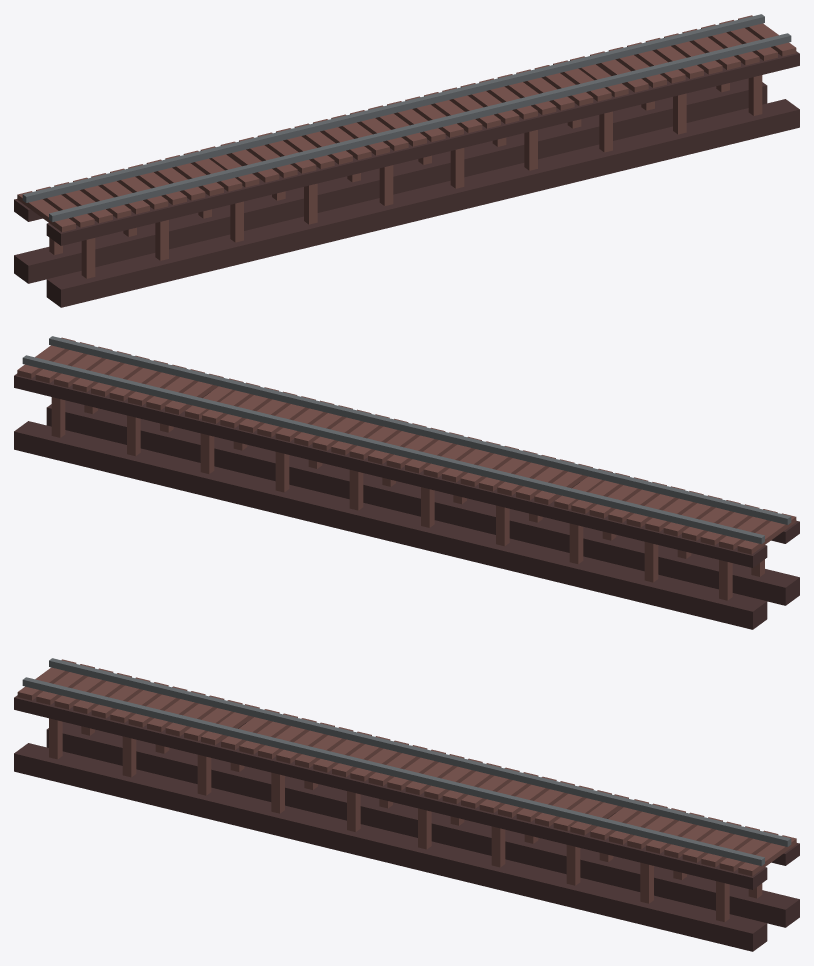
The model's file is DarkRoseWoodMechLarge0_96GaugeStraight1.fbx.
The picture shows the model from 3 angles, top to bottom: view 1: azimuth 30°, elevation 25°; view 2: azimuth 150°, elevation 25°; view 3: azimuth 330°, elevation 25°; orthographic projection.
Parts seen in each view (by area): view 1: DarkRoseWoodMechLarge0_96GaugeStraight1; view 2: DarkRoseWoodMechLarge0_96GaugeStraight1; view 3: DarkRoseWoodMechLarge0_96GaugeStraight1.
Part boxes in pixels (x1=…): DarkRoseWoodMechLarge0_96GaugeStraight1: x1=14, y1=14, x2=799, y2=307; DarkRoseWoodMechLarge0_96GaugeStraight1: x1=14, y1=336, x2=799, y2=629; DarkRoseWoodMechLarge0_96GaugeStraight1: x1=14, y1=658, x2=799, y2=951.
Bounding box in the file's own units: 2000 × 221 × 221.
